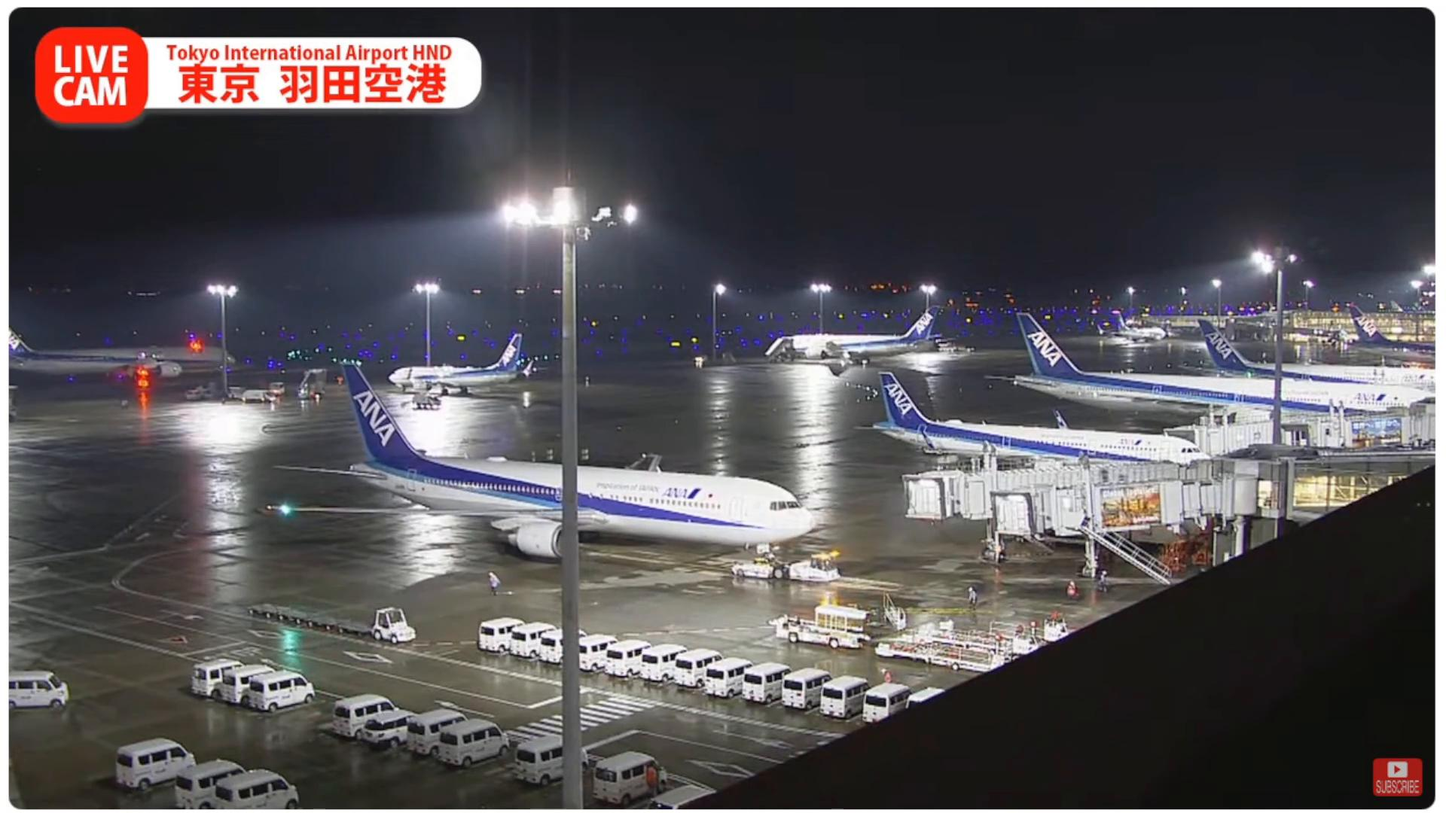APS: (726, 551, 854, 587)
Aerobridge: (902, 461, 1219, 516), (992, 475, 1249, 541)
Airplane: (257, 343, 816, 565)
Dolly: (245, 595, 373, 641)
JCPL: (863, 638, 1018, 673), (895, 625, 1050, 656), (993, 615, 1080, 640)
Skyloader: (758, 598, 872, 653)
Tractor: (369, 607, 423, 645)
Window: (1293, 468, 1419, 517)
